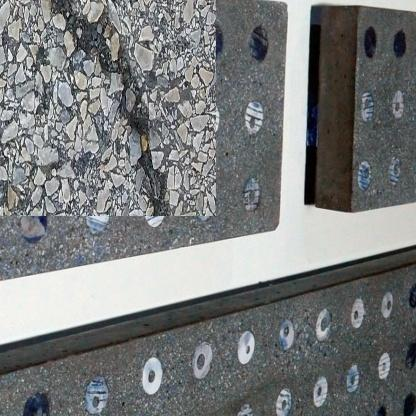Cracks: (23, 0, 158, 199)
